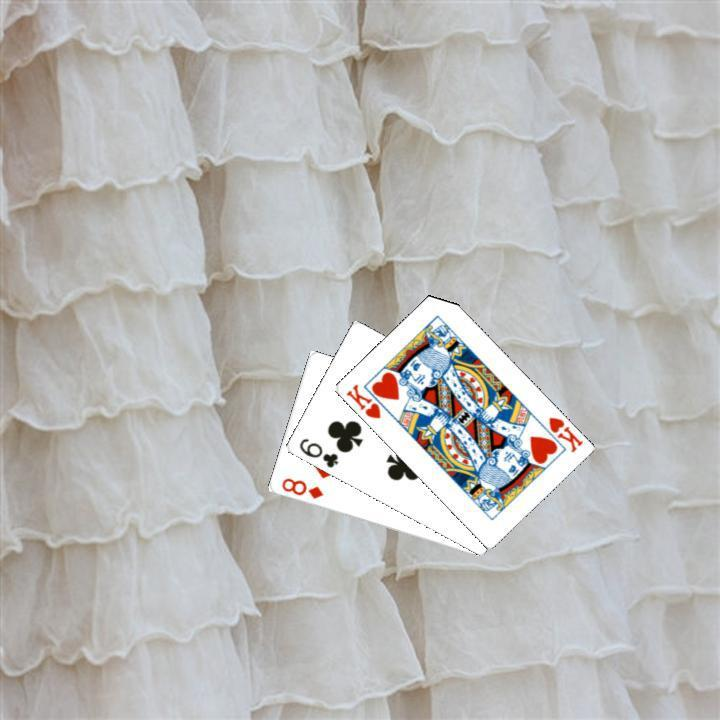6: (294, 434, 340, 470)
8: (277, 473, 325, 501)
K: (341, 379, 382, 421), (544, 412, 584, 455)
